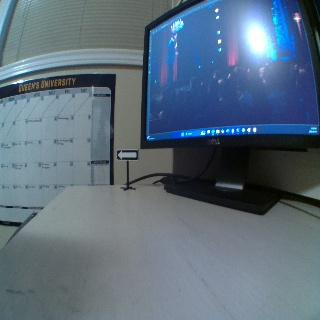sign_oneway_left: (114, 147, 140, 160)
